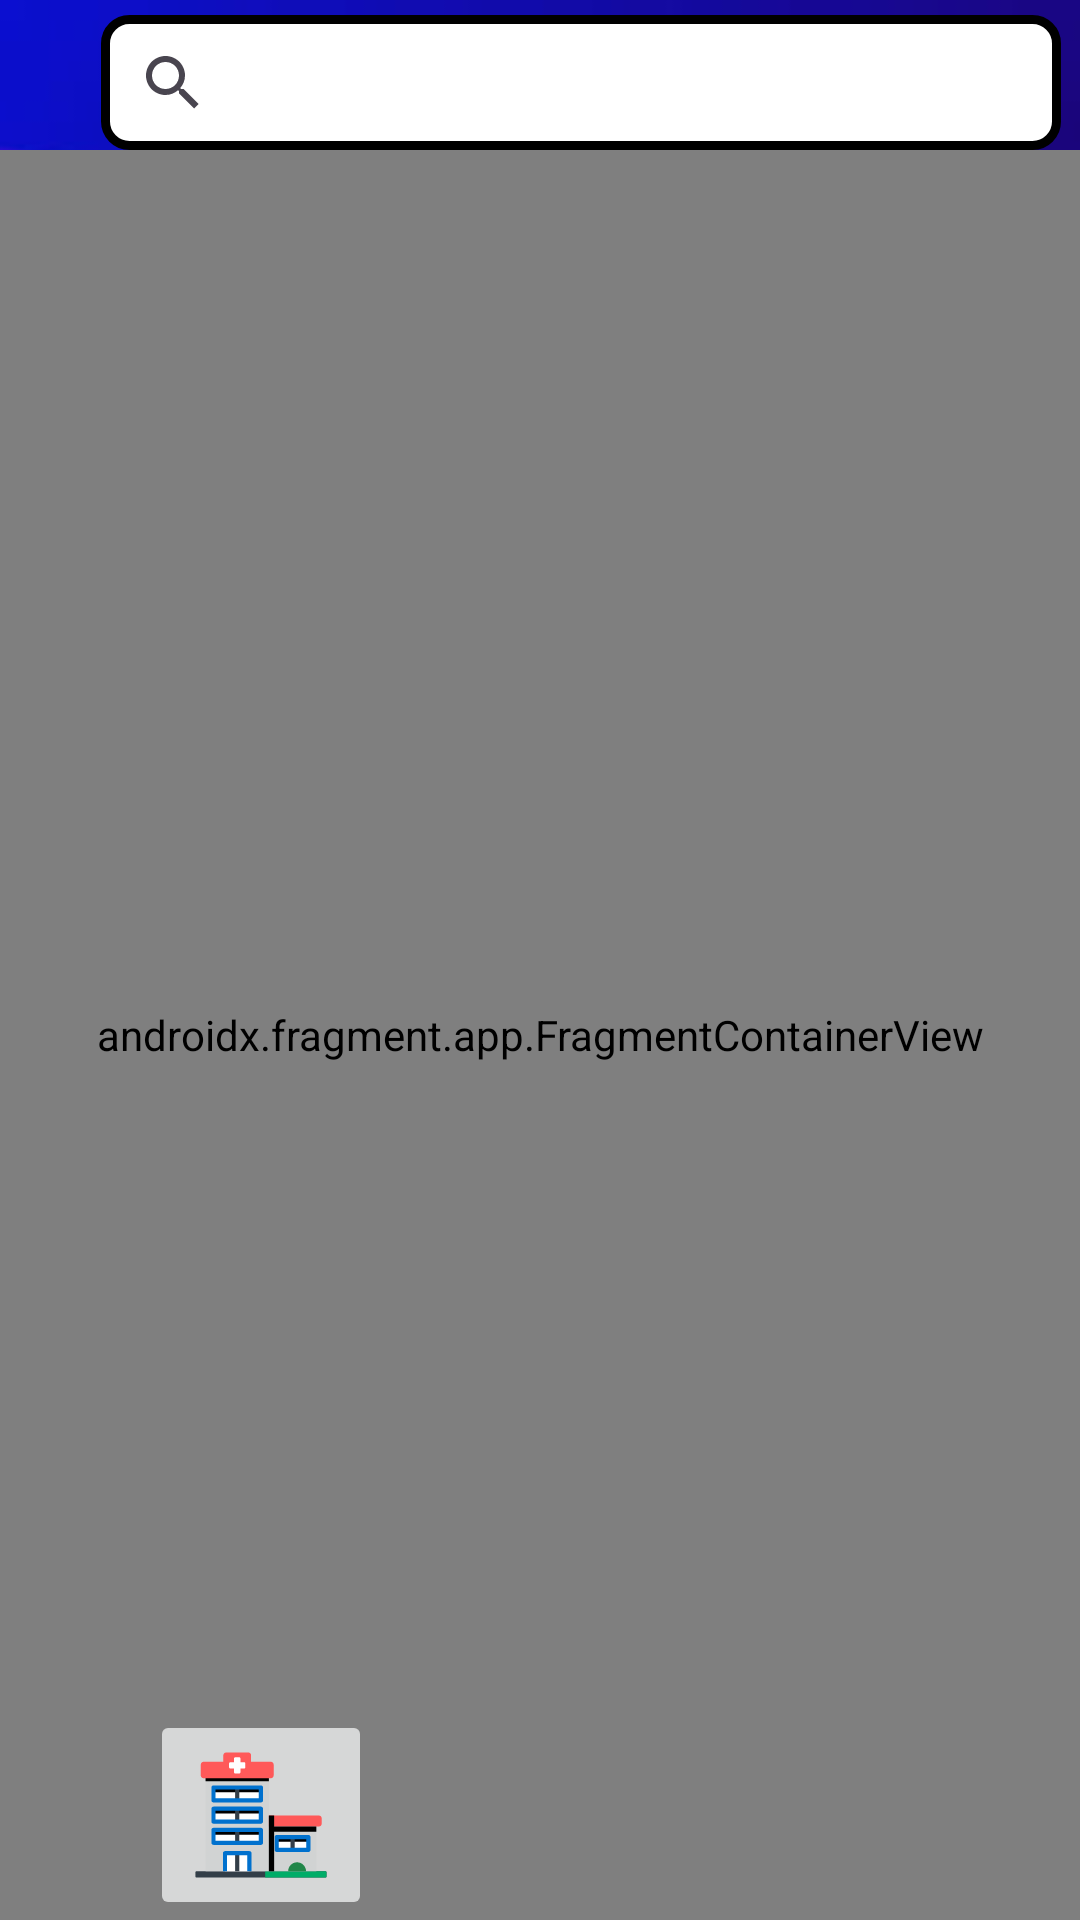

Locate icon controls on the screen. Image size 1080px×1920px, boxes as (x1, y1, x2, y2).
hospital: (162, 1728, 360, 1902)
